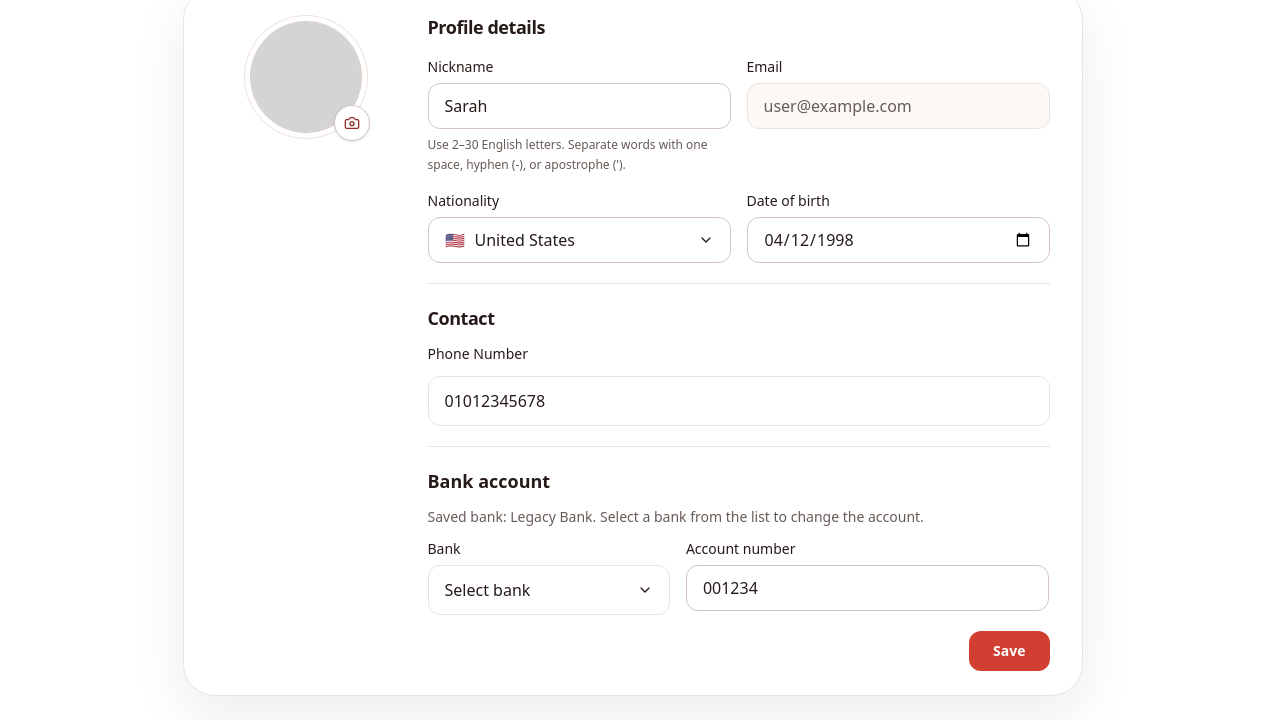
Test case: EditProfilePage › requires a supported bank when editing a legacy account number
(page scrolled)
Replace the text in the field labelled "Account number" with "009876" at (868, 588), box [686,565,1050,611]
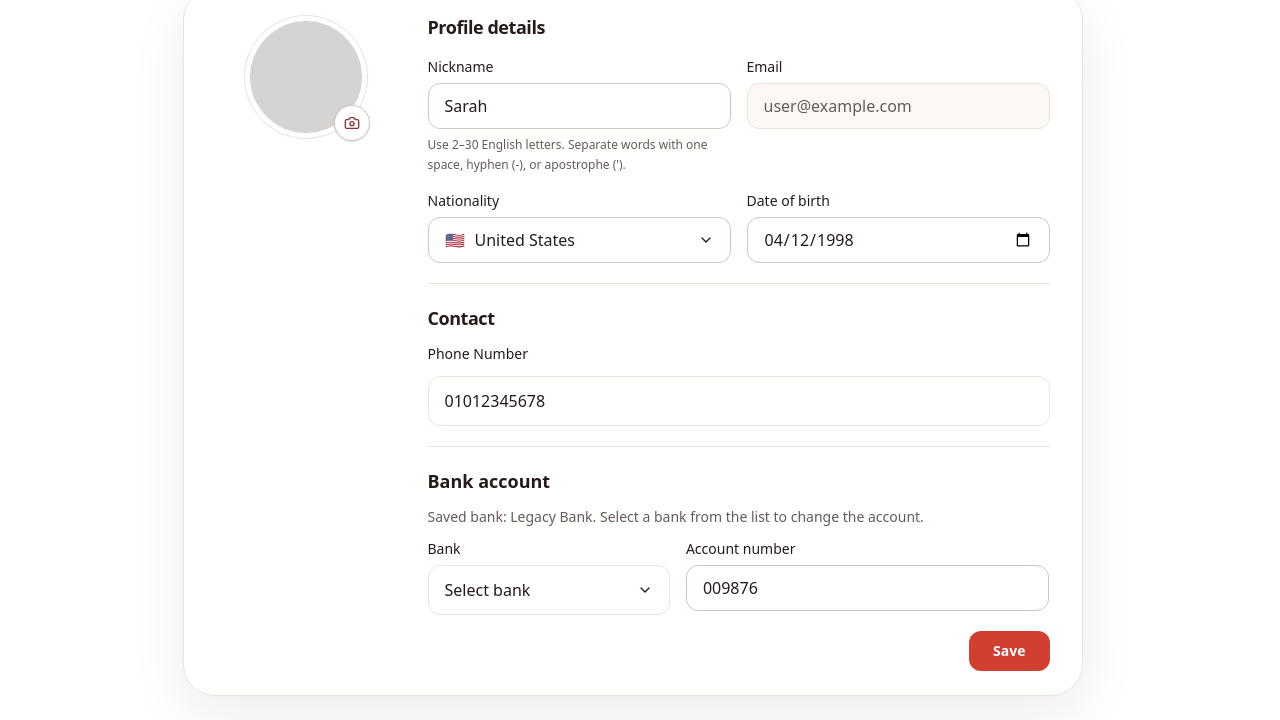
Click the button "Save" at (1009, 651), box [969,631,1050,671]
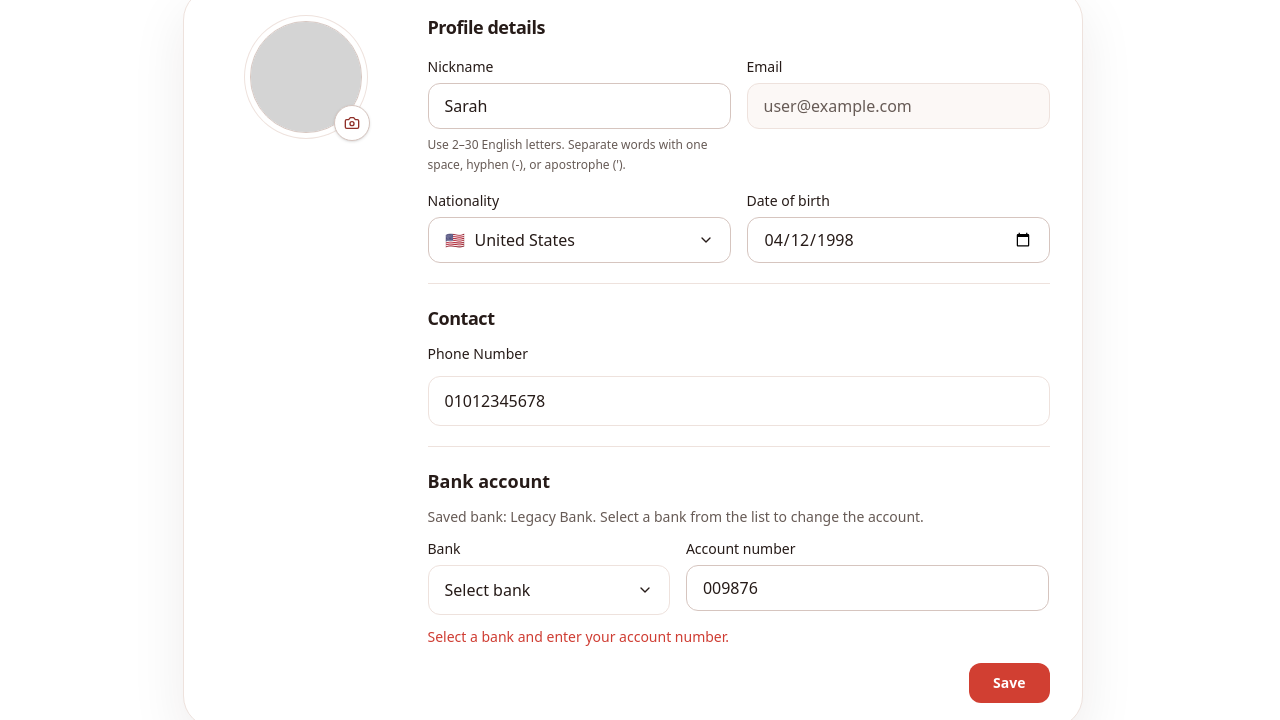
Expected: the message reads "Select a bank and enter your account number.", [428,627,729,646]
